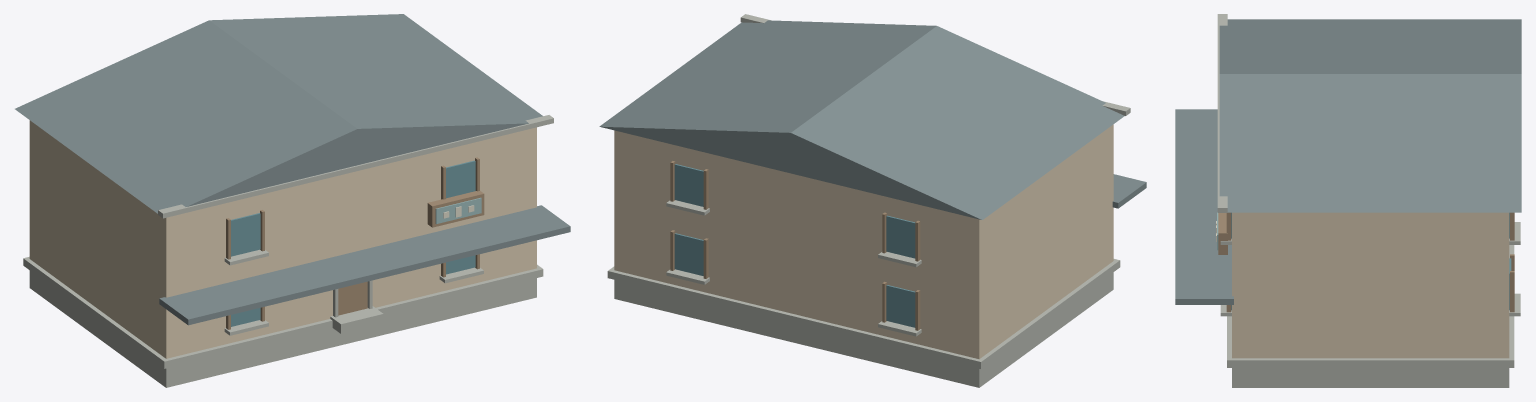
File: shed-2.glb
The picture shows the model from 3 angles, left to right: view 1: azimuth 30°, elevation 25°; view 2: azimuth 150°, elevation 25°; view 3: azimuth 270°, elevation 25°; orthographic projection. The views are drawn at different scales.
Bounding box in the file's own units: 8.44 × 4.5 × 6.37.
